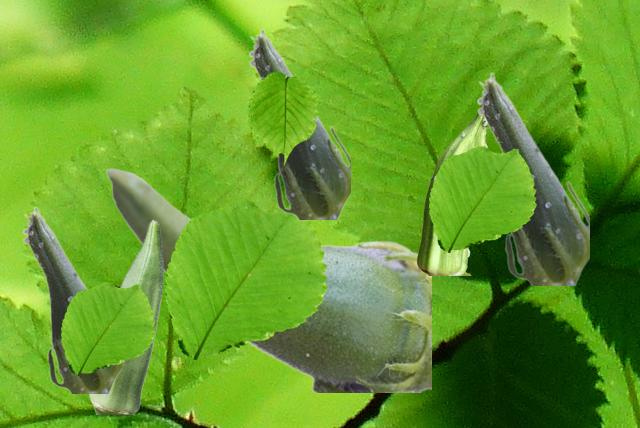okra: (105, 167, 430, 391), (476, 72, 588, 284), (248, 28, 349, 218), (22, 206, 120, 392), (89, 219, 162, 413), (417, 106, 487, 274)
